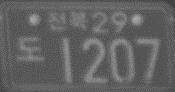0: (110, 37, 134, 85)
1: (60, 36, 74, 85)
2: (82, 36, 110, 85), (90, 11, 110, 34)
7: (135, 37, 162, 85)
9: (111, 11, 128, 33)
도: (15, 36, 45, 64)
전북_O: (47, 10, 87, 34)
